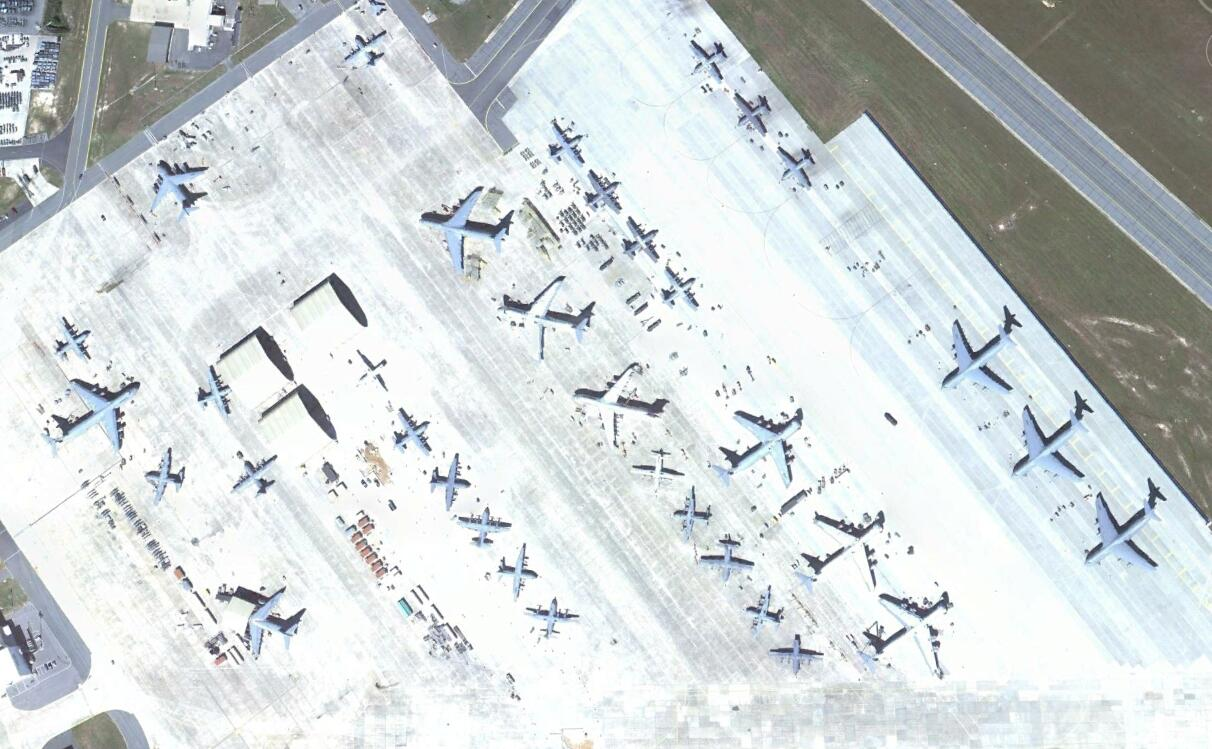A13: (176, 128, 197, 150), (367, 1, 388, 16)
A2: (498, 543, 541, 604), (431, 454, 471, 511), (546, 120, 588, 173), (661, 264, 705, 314), (459, 507, 511, 549), (703, 540, 754, 582), (394, 408, 438, 456), (775, 634, 825, 676), (198, 364, 235, 420), (687, 38, 731, 85), (632, 451, 684, 490), (745, 588, 784, 640), (229, 456, 281, 494), (528, 602, 580, 640), (733, 90, 774, 138), (674, 490, 711, 543), (342, 30, 392, 69), (148, 450, 185, 502), (622, 217, 663, 263), (584, 173, 627, 216), (775, 145, 816, 190), (53, 317, 89, 363), (357, 355, 394, 398)
A3: (146, 156, 212, 217)
A4: (864, 588, 958, 682), (499, 275, 596, 364), (423, 185, 514, 275), (571, 363, 666, 449), (796, 514, 893, 595), (46, 378, 148, 451), (711, 411, 807, 488), (1083, 490, 1162, 572), (1011, 403, 1087, 486), (940, 317, 1019, 394)
